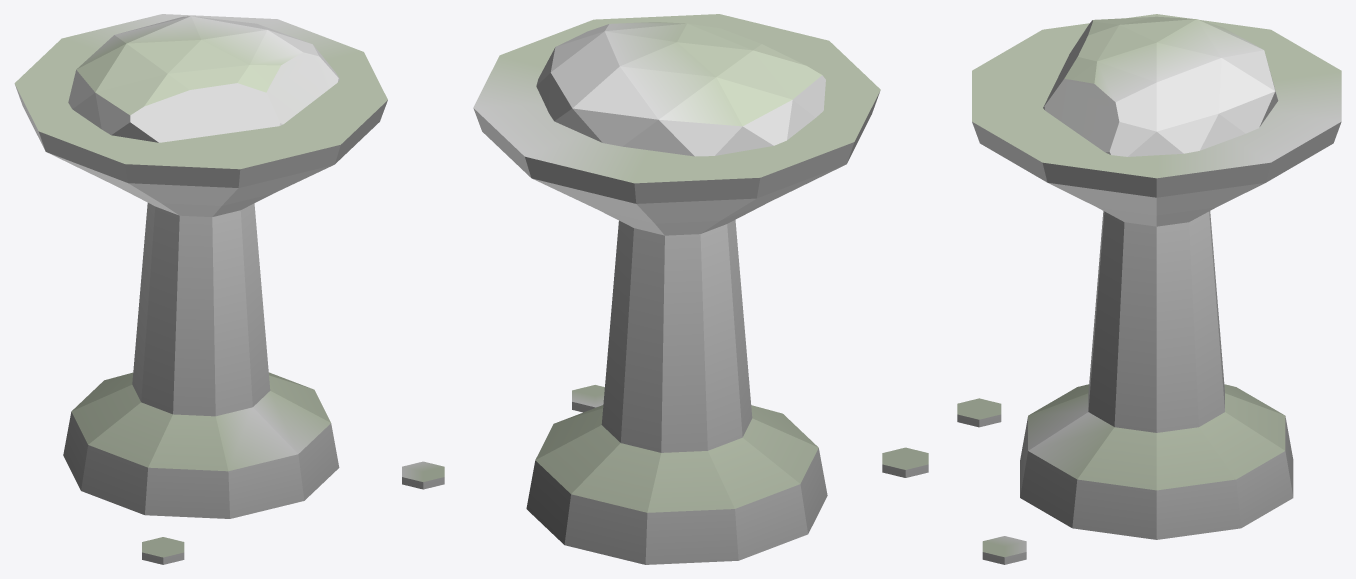
The model's file is shrine_plenty.glb.
3 views of the same model, side by side, from view 1: azimuth 30°, elevation 25°; view 2: azimuth 150°, elevation 25°; view 3: azimuth 270°, elevation 25° (orthographic). The views are drawn at different scales.
Parts seen in each view (by area): view 1: shrine_plenty; view 2: shrine_plenty; view 3: shrine_plenty.
Boxes of the visible parts, left/top/right/bottom form: shrine_plenty: left=14, top=14, right=444, bottom=564; shrine_plenty: left=473, top=14, right=928, bottom=564; shrine_plenty: left=957, top=14, right=1341, bottom=564.
Size of the model in its own units: 0.94 by 1.14 by 0.9094.
